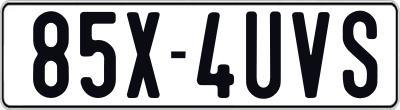4: (194, 10, 236, 98)
5: (78, 10, 120, 100)
8: (32, 11, 72, 99)
S: (342, 8, 378, 99)
U: (245, 10, 281, 98)
V: (292, 12, 330, 102)
X: (124, 12, 160, 100)
